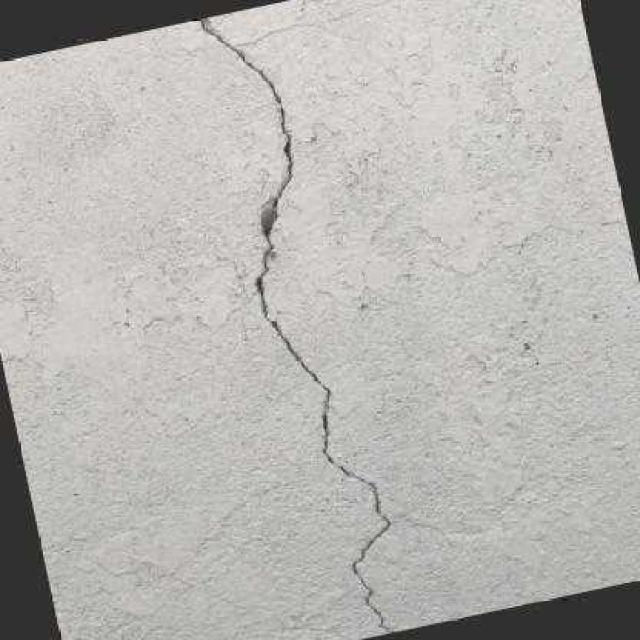D00: (197, 17, 398, 633)
